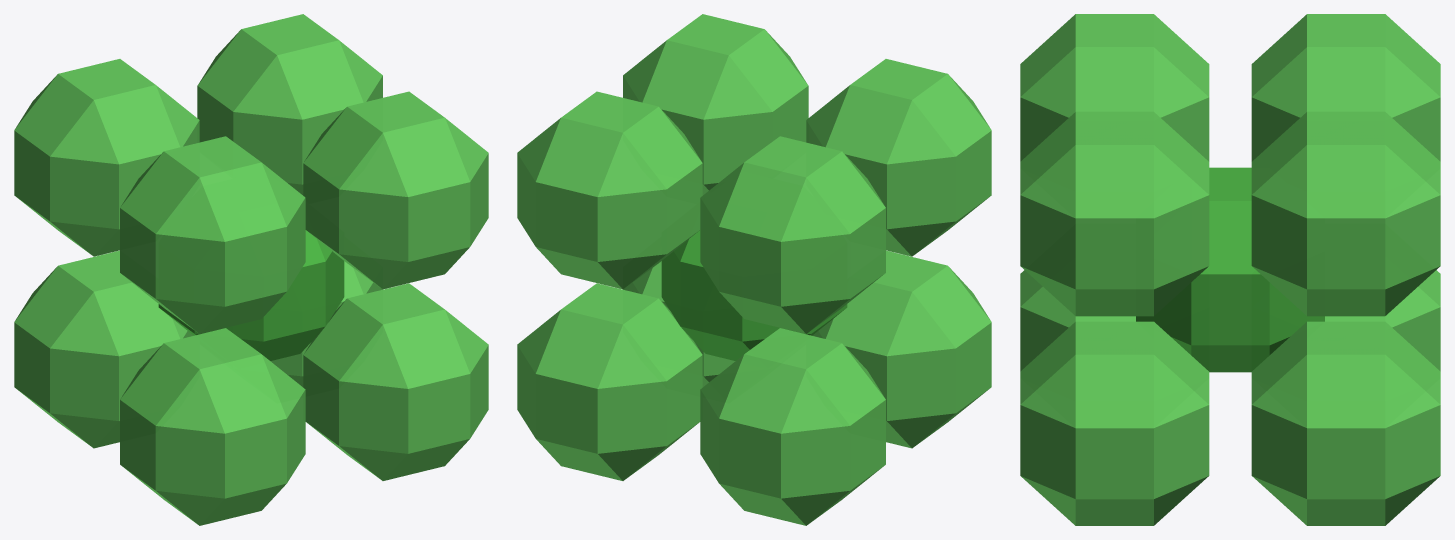
File: fractalrhombicuboctahedron1.glb
3 renders of one model, left to right at view 1: azimuth 30°, elevation 25°; view 2: azimuth 150°, elevation 25°; view 3: azimuth 270°, elevation 25°, orthographic. The views are drawn at different scales.
Bounding box in the file's own units: 7.5 × 7.5 × 7.5.
